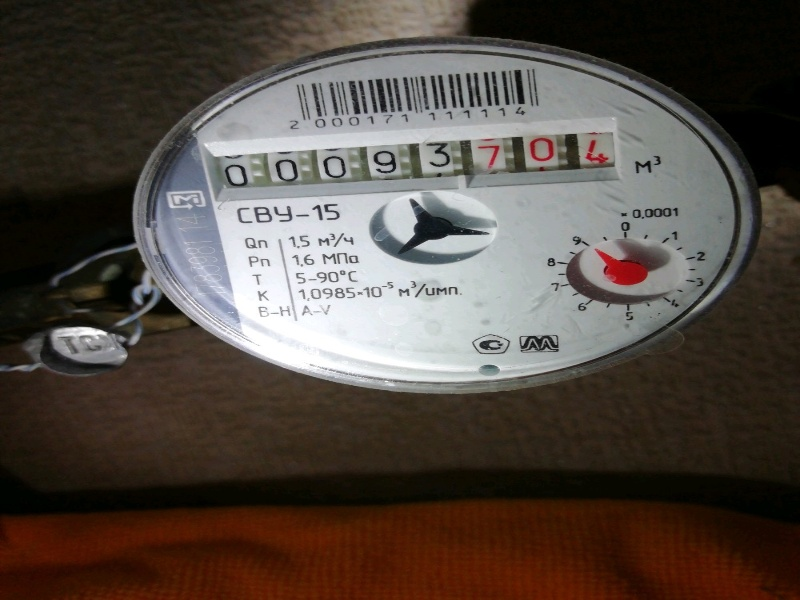dial: (221, 131, 622, 181)
